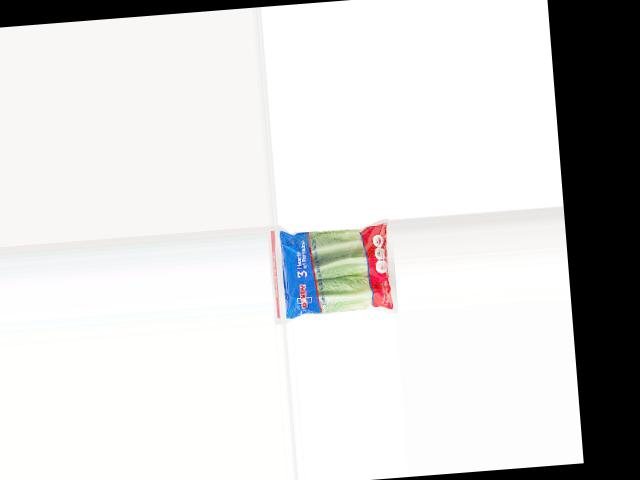lettuce: (274, 221, 398, 324)
